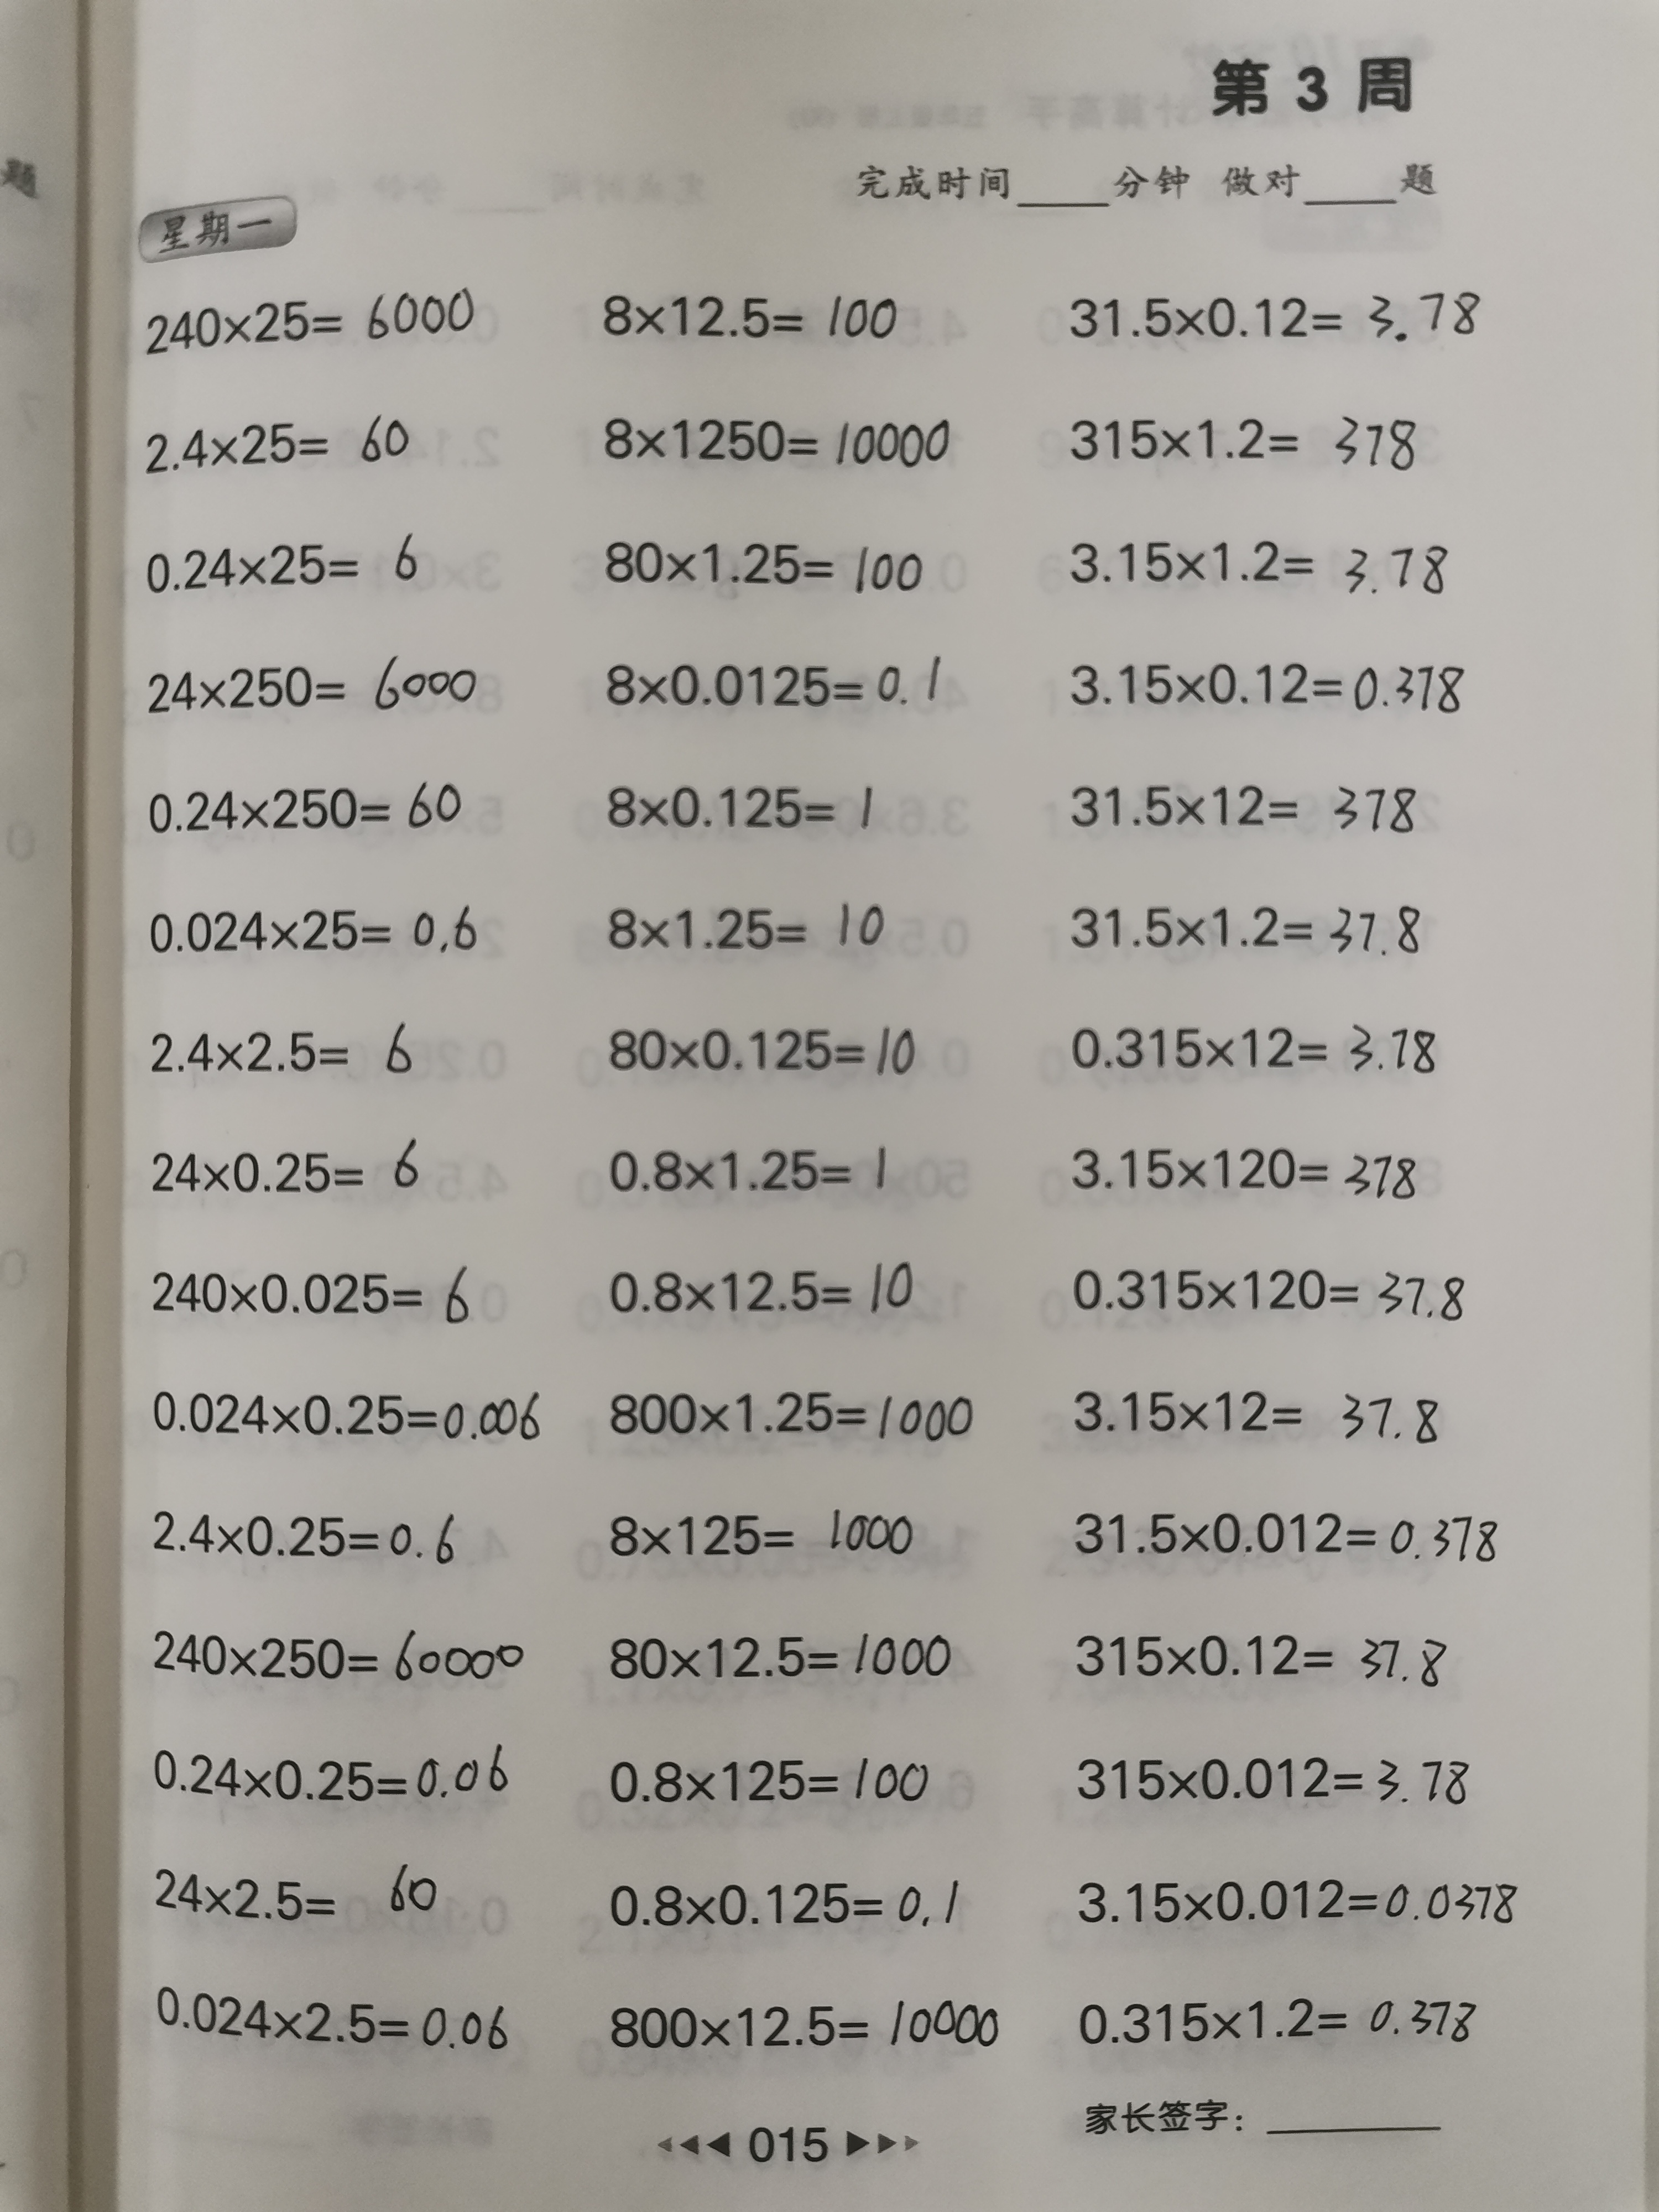equation: (1056, 639, 1481, 726), (132, 1973, 533, 2064), (138, 1606, 533, 1696), (134, 1376, 552, 1458), (1056, 1249, 1476, 1329), (132, 1730, 525, 1815), (1058, 1367, 1448, 1453), (1066, 1980, 1492, 2057), (603, 1371, 992, 1454), (587, 392, 958, 479), (1063, 1867, 1539, 1935), (1063, 1616, 1457, 1698), (1060, 1007, 1448, 1089), (138, 1244, 493, 1332), (1063, 1503, 1514, 1573), (1058, 1127, 1436, 1209), (1060, 282, 1500, 352), (132, 887, 491, 972), (1056, 524, 1462, 599), (1053, 773, 1453, 848), (1058, 1740, 1483, 1810), (596, 1986, 1006, 2057), (1061, 402, 1432, 481), (1054, 890, 1431, 967), (129, 282, 497, 361), (134, 1487, 476, 1571), (134, 1843, 457, 1930), (132, 763, 474, 845), (592, 646, 955, 719), (134, 646, 488, 721), (592, 528, 941, 603), (591, 887, 906, 968), (598, 1012, 932, 1089), (591, 1249, 925, 1325), (124, 397, 423, 482), (603, 1623, 969, 1691), (598, 1742, 941, 1813), (605, 1869, 974, 1935), (131, 521, 439, 599), (599, 1503, 925, 1575), (601, 768, 896, 846), (596, 279, 911, 350), (136, 1010, 422, 1089), (592, 1139, 904, 1209), (136, 1134, 439, 1204)
